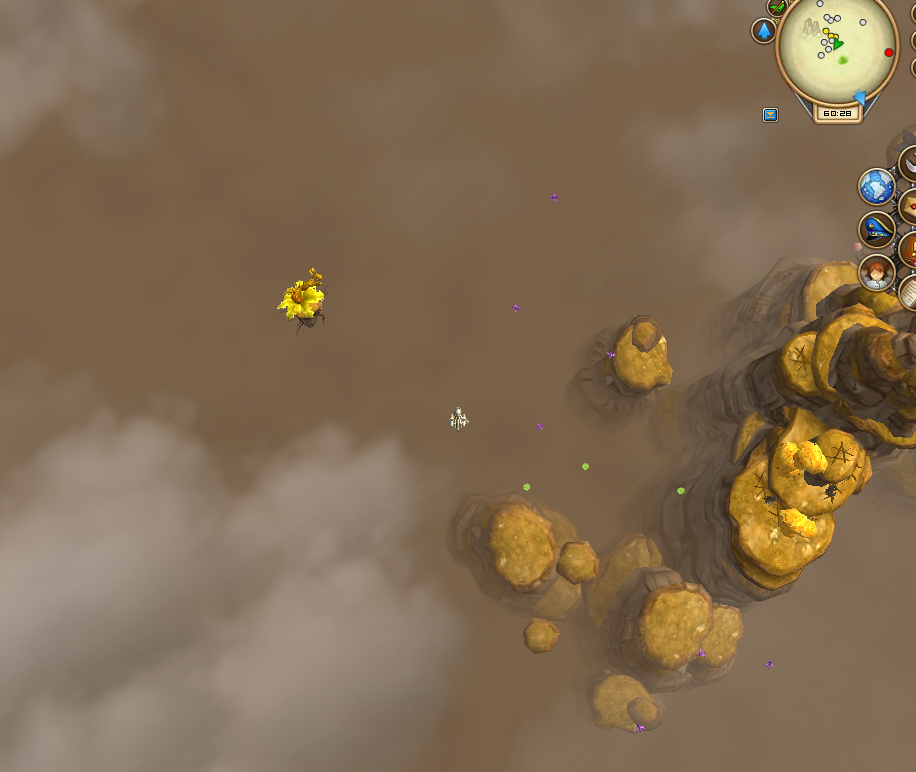dandelion-empty: (271, 260, 332, 336)
fluff: (516, 478, 536, 498), (670, 482, 691, 499), (578, 456, 592, 475)
